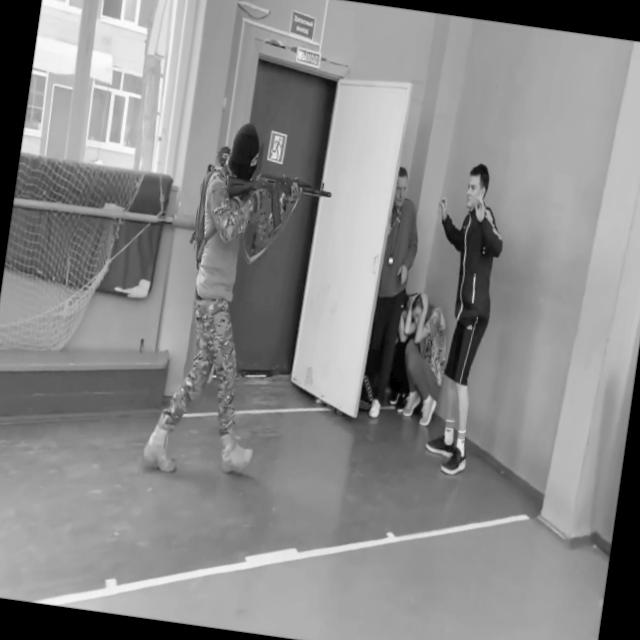gun: (219, 164, 335, 240)
person: (400, 156, 514, 478), (362, 166, 430, 422), (392, 288, 457, 429)
person with a gun: (141, 114, 341, 492)
